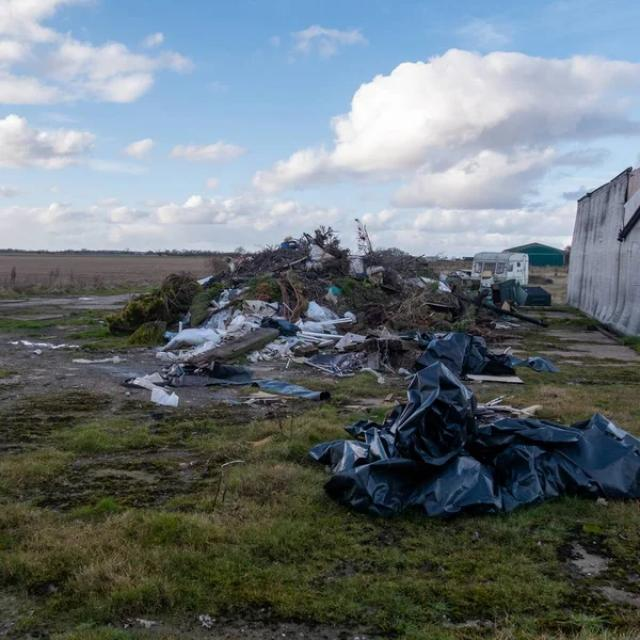garbage: (160, 231, 483, 415)
